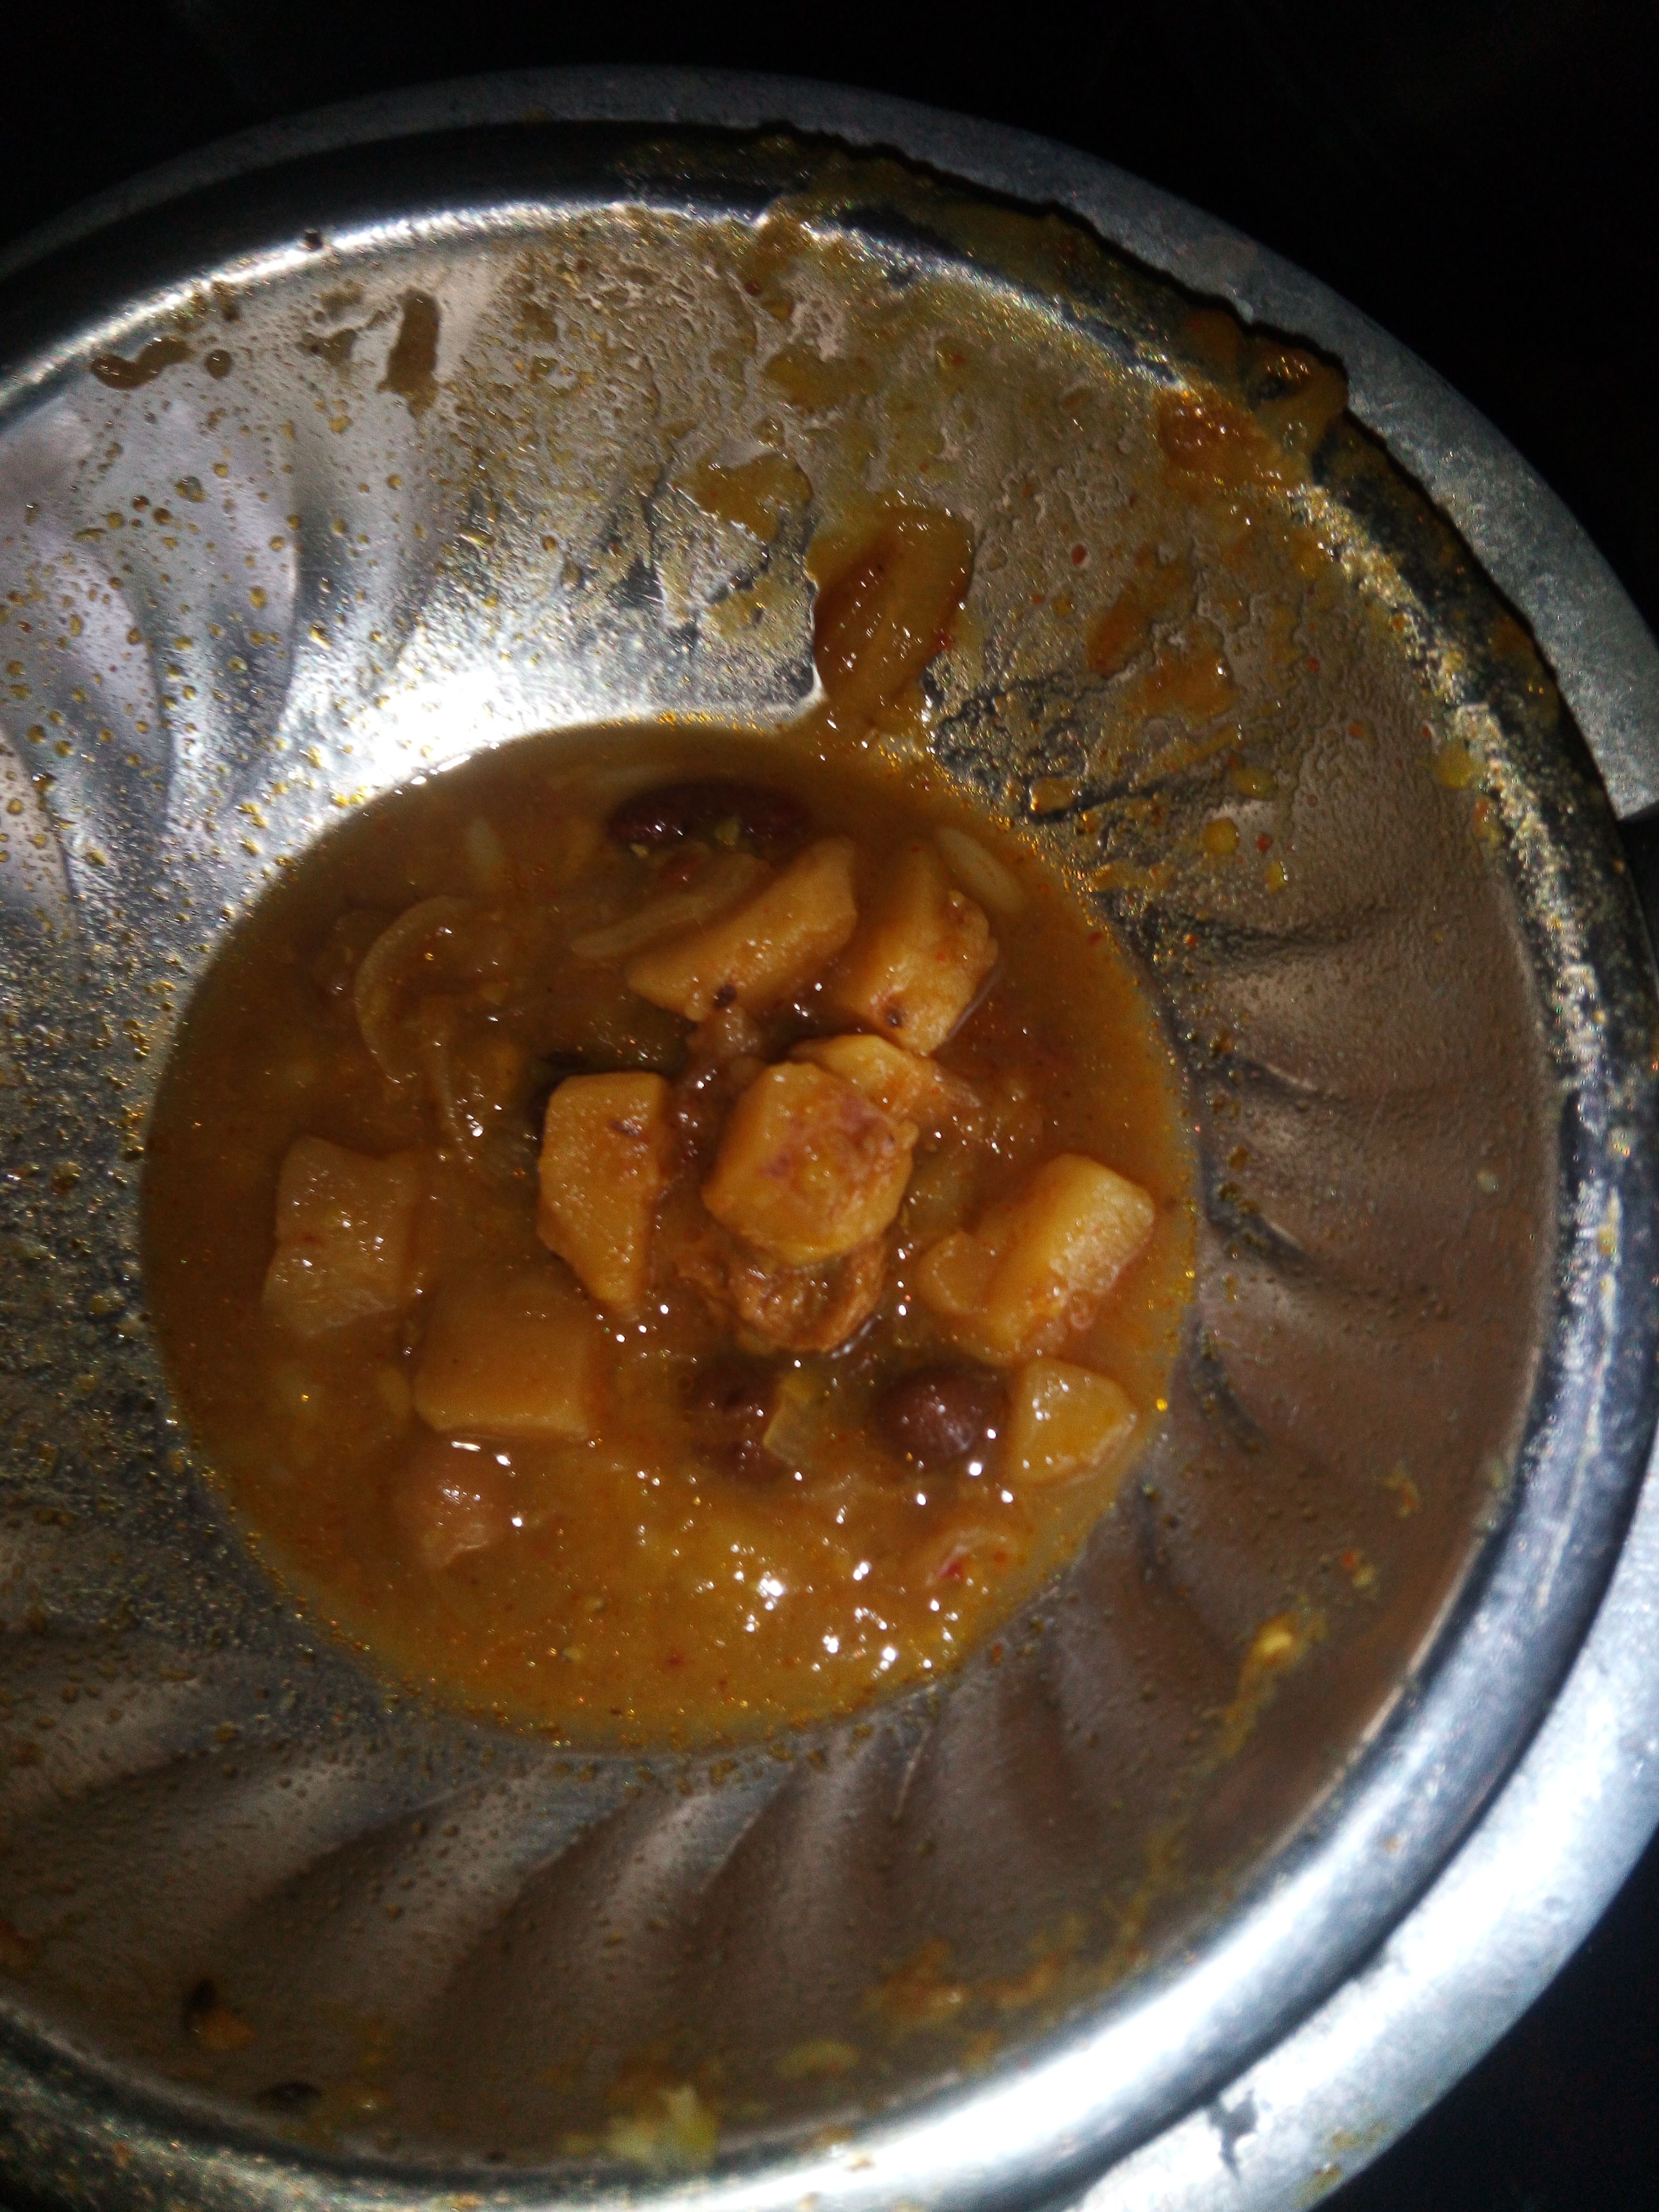food: (118, 496, 1213, 1764)
